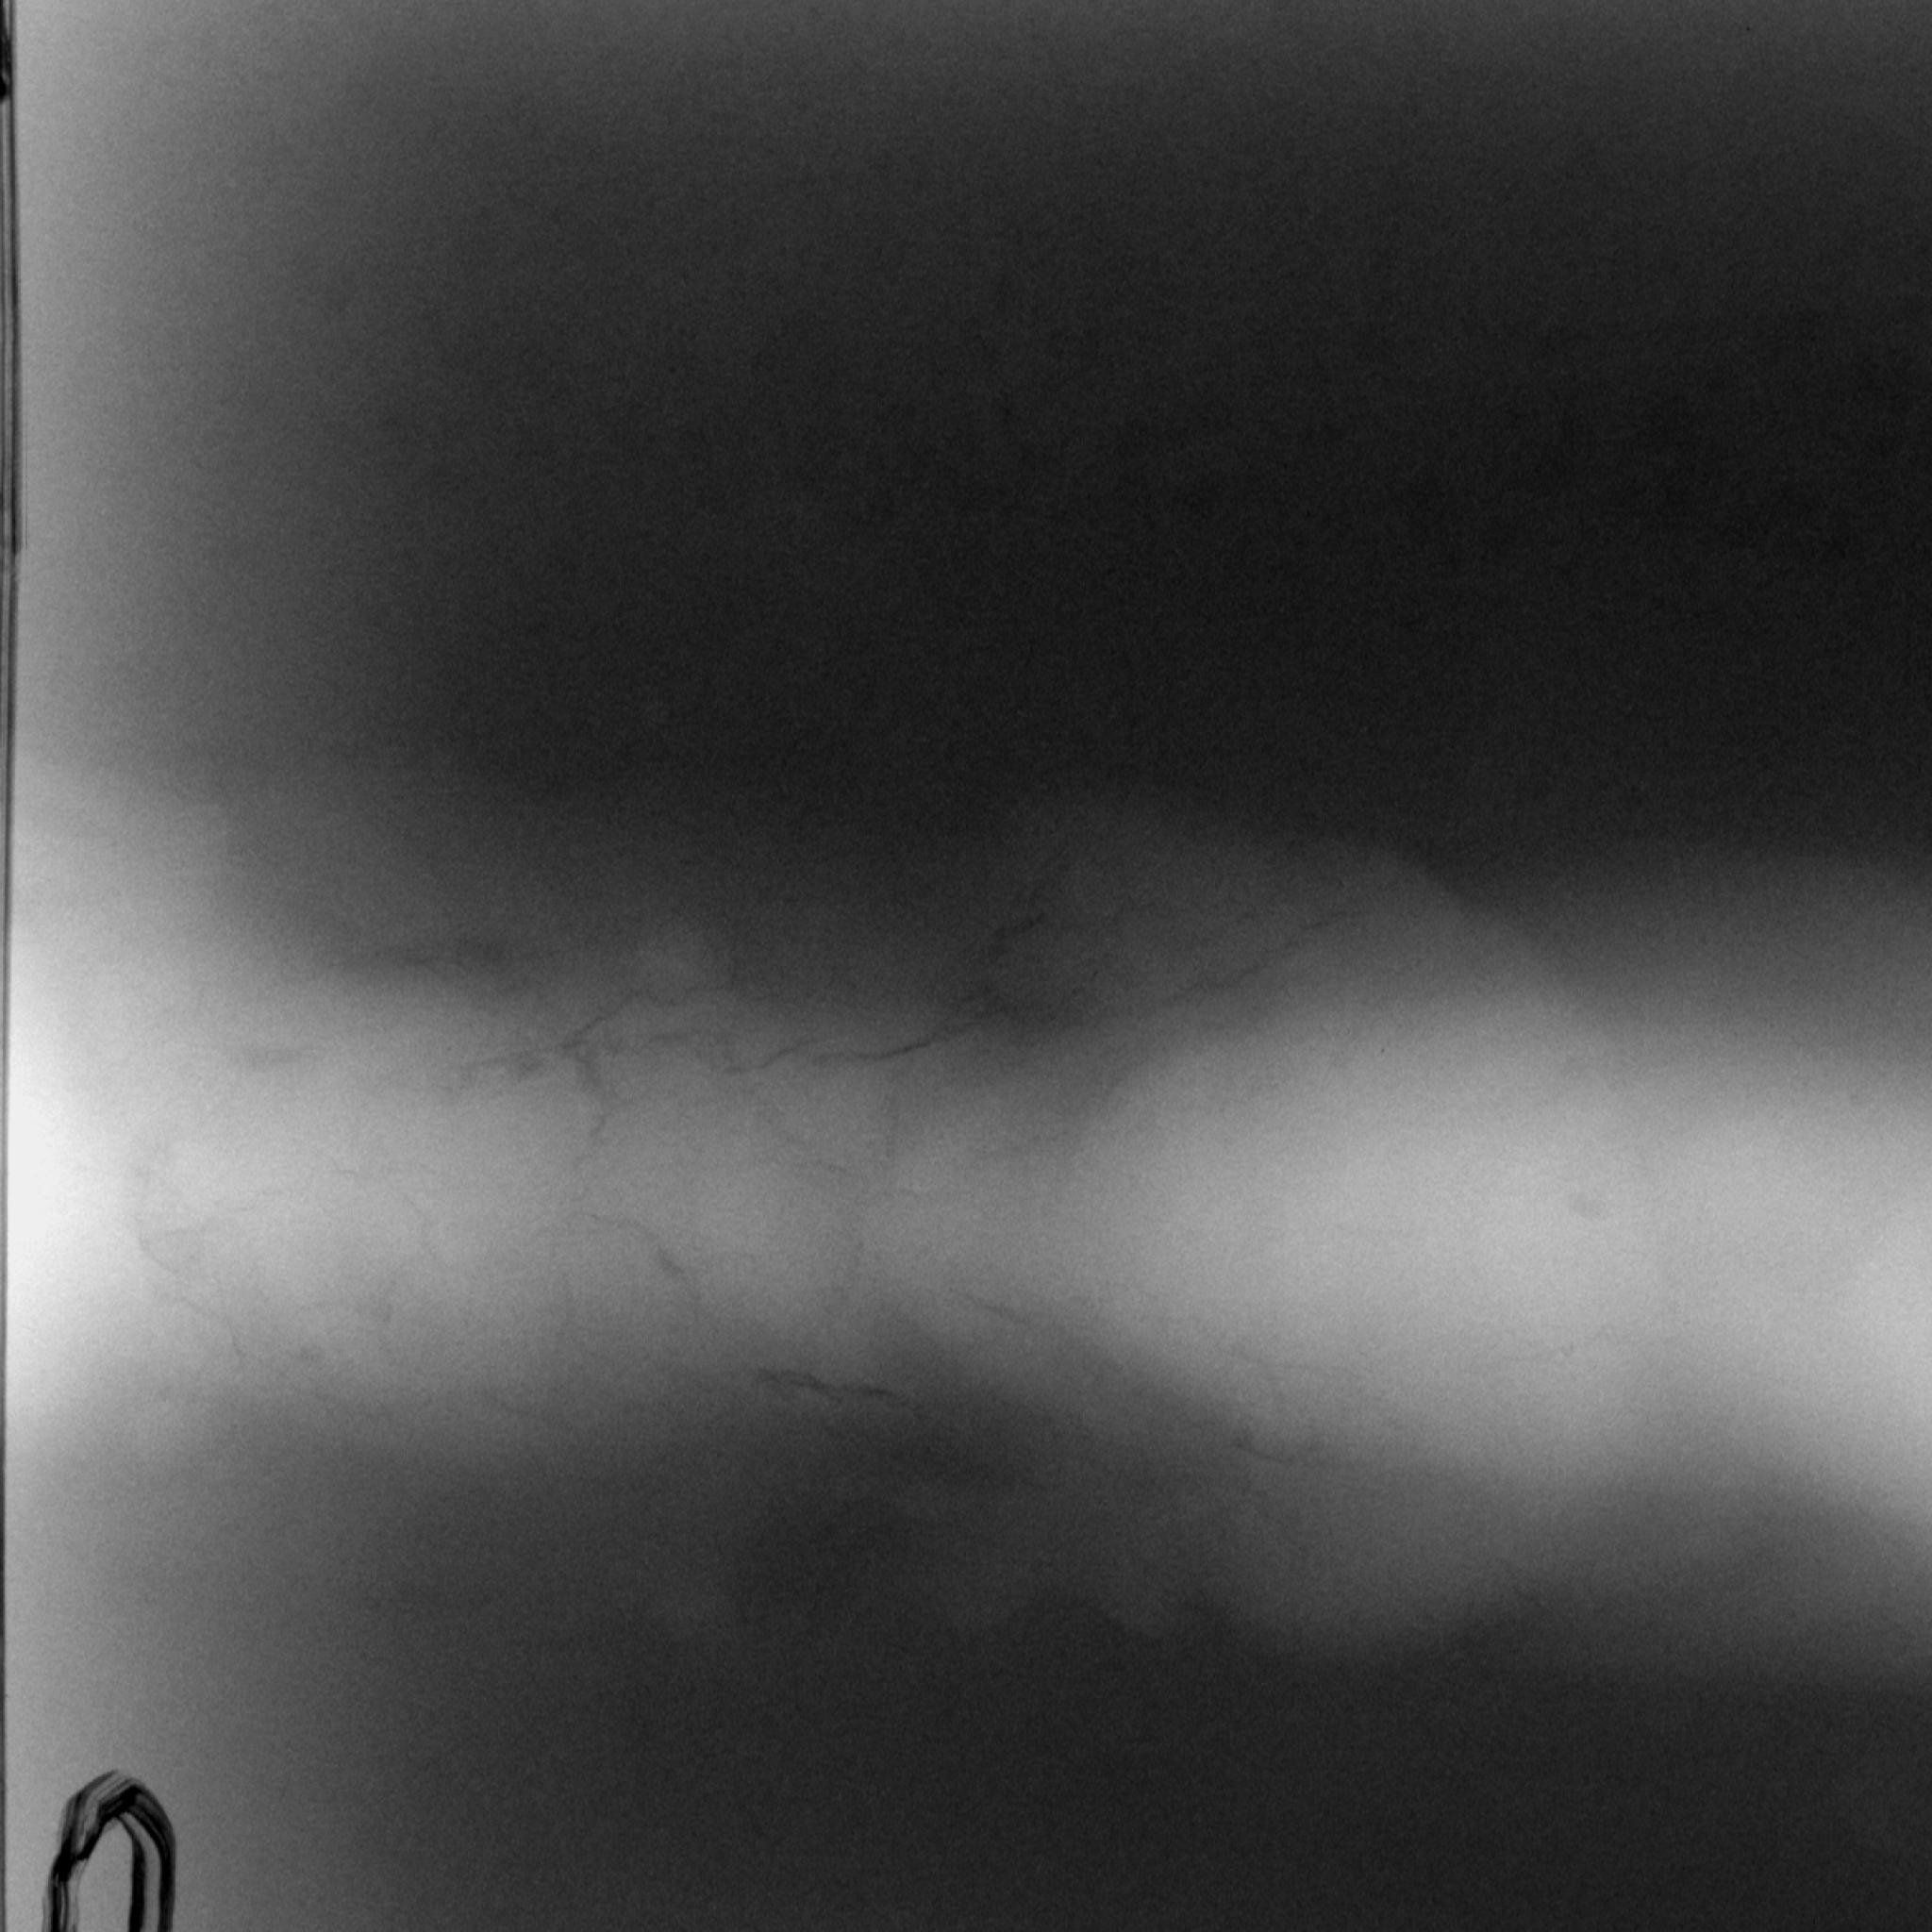Solda Ruim: (0, 685, 1932, 1821)
